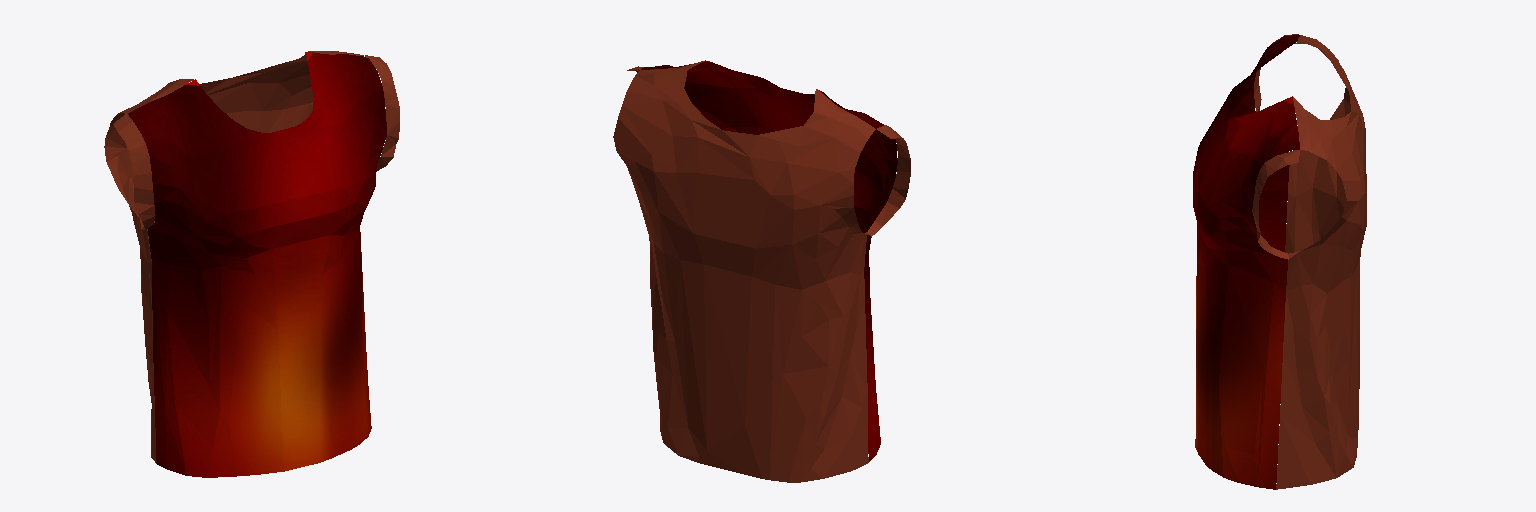
The picture shows the model from 3 angles: view 1: azimuth 30°, elevation 25°; view 2: azimuth 150°, elevation 25°; view 3: azimuth 270°, elevation 25°; orthographic projection.
Visible parts, largest first — view 1: T_shirt.007; view 2: T_shirt.007; view 3: T_shirt.007.
Boxes of the visible parts, x1=… form: T_shirt.007: x1=104, y1=51, x2=399, y2=477; T_shirt.007: x1=613, y1=60, x2=910, y2=482; T_shirt.007: x1=1193, y1=34, x2=1366, y2=489.
Bounding box in the file's own units: 0.2935 × 0.3892 × 0.1639.
2 materials, 1 textured.